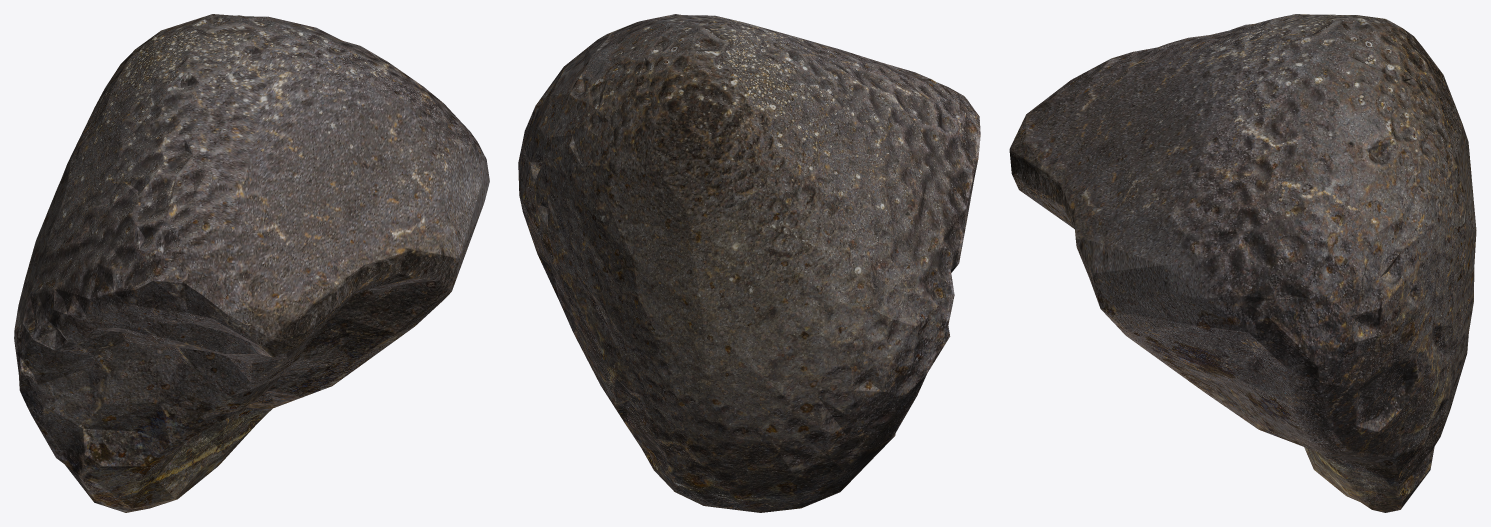
File: GRO17102-0.fbx
3 renders of one model, left to right at view 1: azimuth 30°, elevation 25°; view 2: azimuth 150°, elevation 25°; view 3: azimuth 270°, elevation 25°, orthographic. The views are drawn at different scales.
Parts seen in each view (by area): view 1: GRO17102-0; view 2: GRO17102-0; view 3: GRO17102-0.
Boxes of the visible parts, bbox=[...] form: GRO17102-0: bbox=[14, 14, 489, 512]; GRO17102-0: bbox=[518, 14, 980, 512]; GRO17102-0: bbox=[1009, 14, 1476, 512].
Size of the model in its own units: 178 by 180 by 153.
